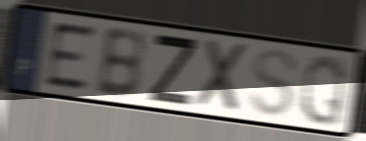B: (93, 27, 148, 102)
E: (43, 20, 99, 92)
Q: (298, 51, 350, 129)
S: (247, 46, 301, 120)
X: (195, 36, 252, 116)
Z: (147, 31, 200, 109)
